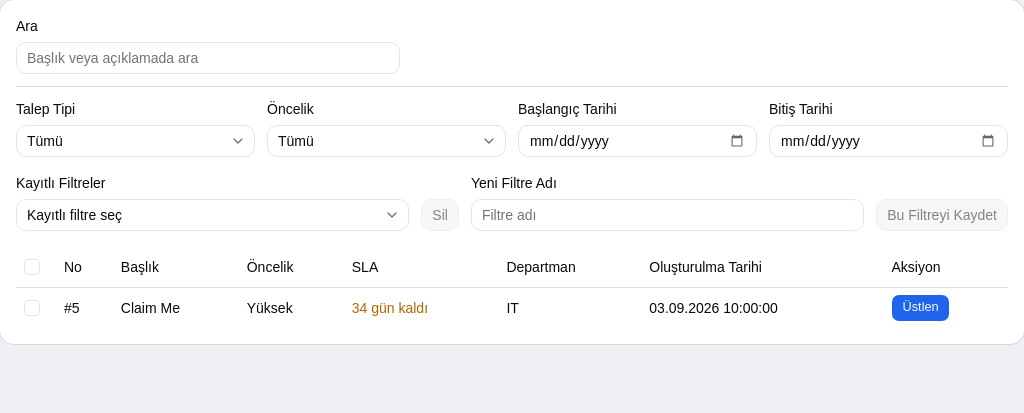
Test: Queue page › does not crash or show an error on a 409 claim conflict
Check: the text "Claim Me" is shown, box [113,287,239,328]
Click the button "Üstlen" at (921, 308), box [891,294,950,322]
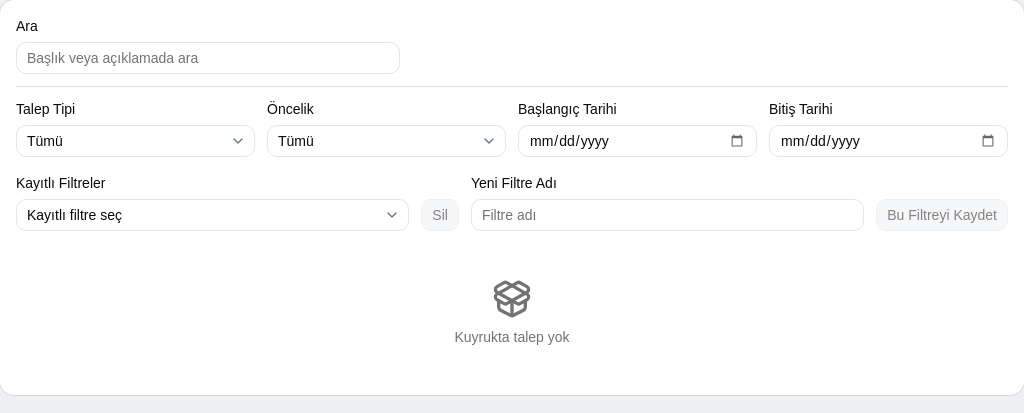
Check: the field labelled "Ara" is shown, box [16,42,400,74]
Check: the button "Üstlen" is gone
